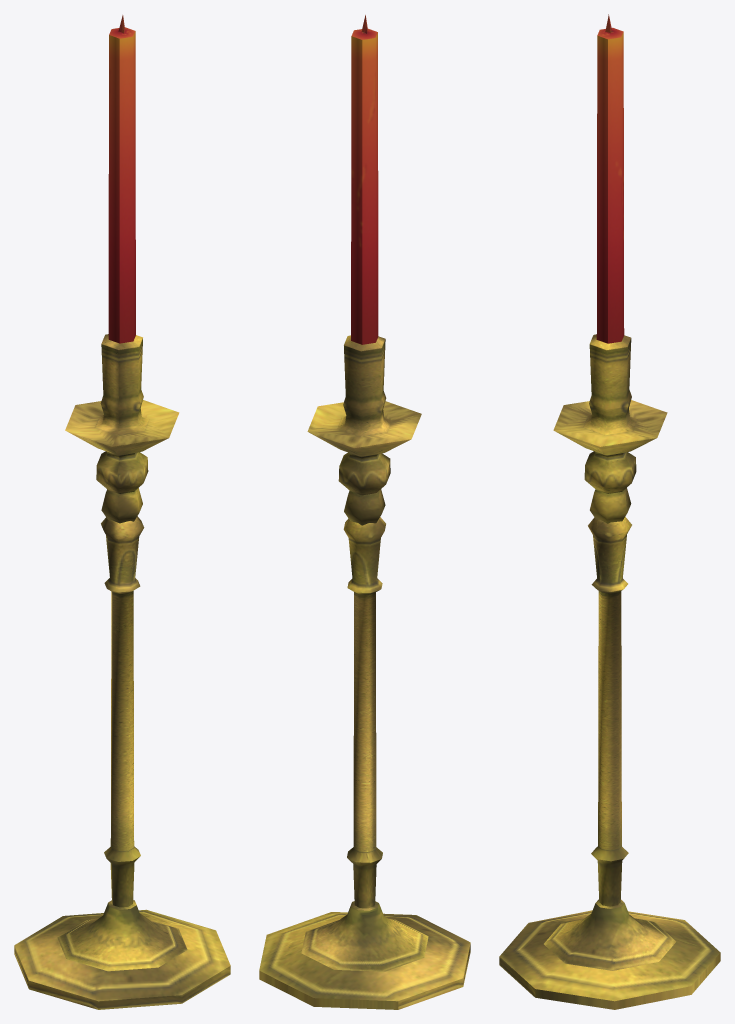
File: SM_chandeleermall.fbx
3 renders of one model, left to right at view 1: azimuth 30°, elevation 25°; view 2: azimuth 150°, elevation 25°; view 3: azimuth 270°, elevation 25°, orthographic.
Parts seen in each view (by area): view 1: SM_chandeleermall_LOD0; view 2: SM_chandeleermall_LOD0; view 3: SM_chandeleermall_LOD0.
Boxes of the visible parts, x1,y1,x2,y2 form: SM_chandeleermall_LOD0: [14, 15, 230, 1009]; SM_chandeleermall_LOD0: [259, 15, 470, 1009]; SM_chandeleermall_LOD0: [499, 14, 720, 1009].
Bounding box in the file's own units: 20.42 × 20.42 × 96.68.
Materials: 1 (1 with a texture image).
